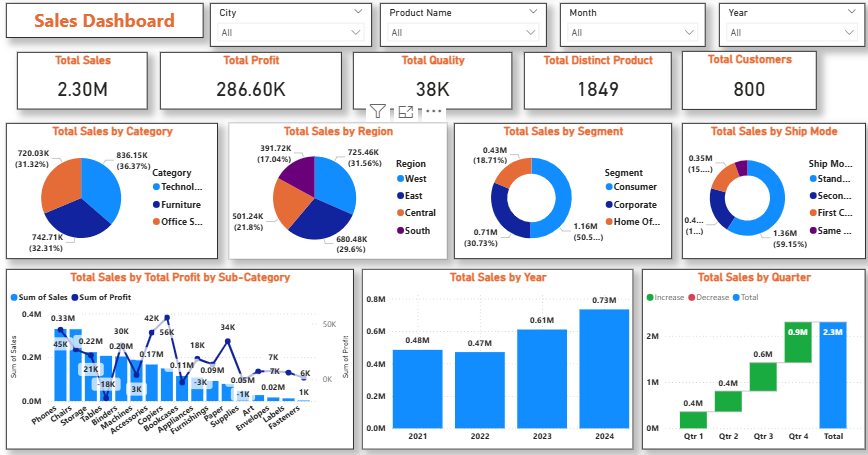

This screenshot's page, from the dashboard's own definition file:
{"tool":"powerbi","page":{"name":"Page 1","canvas":[1280,720],"ordinal":0},"visuals":[{"type":"textbox","box":[10,8.6,288.6,51.4],"z":0},{"type":"slicer","fields":{"Values":["Sales Data.City"]},"box":[308.6,8.6,237.1,64.3],"z":1000},{"type":"slicer","fields":{"Values":["Sales Data.Product Name"]},"box":[557.1,8.6,244.3,64.3],"z":2000},{"type":"slicer","fields":{"Values":["Sales Data.Order Date.Variation.Date Hierarchy.Month"]},"box":[821.4,8.6,212.9,64.3],"z":3000},{"type":"slicer","fields":{"Values":["Sales Data.Order Date.Variation.Date Hierarchy.Year"]},"box":[1054.3,8.6,214.3,64.3],"z":4000},{"type":"card","title":"Total Sales","fields":{"Values":["Sum(Sales Data.Sales)"]},"box":[25.7,80,191.4,84.3],"z":5000},{"type":"card","title":"Total Profit","fields":{"Values":["Sum(Sales Data.Profit)"]},"box":[235.7,80,265.7,84.3],"z":6000},{"type":"card","title":"Total Quality","fields":{"Values":["Sum(Sales Data.Quantity)"]},"box":[518.6,80,232.9,84.3],"z":7000},{"type":"card","title":"Total Distinct Product","fields":{"Values":["Count(Sales Data.Product Name)"]},"box":[768.6,80,215.7,84.3],"z":8000},{"type":"card","title":"Total Customers","fields":{"Values":["Count(Sales Data.Customer ID)"]},"box":[1000,78.6,197.1,85.7],"z":9000},{"type":"pieChart","title":"Total Sales by Category","fields":{"Y":["Sum(Sales Data.Sales)"],"Category":["Sales Data.Category"]},"box":[10,184.3,310,198.6],"z":10000},{"type":"pieChart","title":"Total Sales by Region","fields":{"Y":["Sum(Sales Data.Sales)"],"Category":["Sales Data.Region"]},"box":[337.1,184.3,318.6,198.6],"z":11000},{"type":"donutChart","title":"Total Sales by Segment","fields":{"Y":["Sum(Sales Data.Sales)"],"Category":["Sales Data.Segment"]},"box":[665.7,184.3,318.6,198.6],"z":12000},{"type":"donutChart","title":"Total Sales by Ship Mode","fields":{"Y":["Sum(Sales Data.Sales)"],"Category":["Sales Data.Ship Mode"]},"box":[1000,184.3,268.6,198.6],"z":13000},{"type":"lineClusteredColumnComboChart","title":"Total Sales by Total Profit by Sub-Category","fields":{"Category":["Sales Data.Sub-Category"],"Y":["Sum(Sales Data.Sales)"],"Y2":["Sum(Sales Data.Profit)"]},"box":[10,398.6,508.6,264.3],"z":14000},{"type":"columnChart","title":"Total Sales by Year","fields":{"Category":["Sales Data.Order Date.Variation.Date Hierarchy.Year"],"Y":["Sum(Sales Data.Sales)"]},"box":[531.4,398.6,397.1,264.3],"z":14001},{"type":"waterfallChart","title":"Total Sales by Quarter","fields":{"Y":["Sum(Sales Data.Sales)"],"Category":["Sales Data.Order Date.Variation.Date Hierarchy.Quarter"]},"box":[941.4,398.6,327.1,264.3],"z":14002}]}

Visuals, with their boxes in screenshot pixels (x1, y1, x2, y2):
textbox: <bbox>4, 3, 190, 36</bbox>
slicer - Sales Data.City: <bbox>197, 3, 350, 45</bbox>
slicer - Sales Data.Product Name: <bbox>357, 3, 515, 45</bbox>
slicer - Sales Data.Order Date.Variation.Date Hierarchy.Month: <bbox>528, 3, 665, 45</bbox>
slicer - Sales Data.Order Date.Variation.Date Hierarchy.Year: <bbox>678, 3, 816, 45</bbox>
"Total Sales" card: <bbox>14, 49, 138, 104</bbox>
"Total Profit" card: <bbox>150, 49, 321, 104</bbox>
"Total Quality" card: <bbox>332, 49, 483, 104</bbox>
"Total Distinct Product" card: <bbox>494, 49, 633, 104</bbox>
"Total Customers" card: <bbox>643, 48, 770, 104</bbox>
"Total Sales by Category" pieChart: <bbox>4, 117, 204, 245</bbox>
"Total Sales by Region" pieChart: <bbox>215, 117, 421, 245</bbox>
"Total Sales by Segment" donutChart: <bbox>427, 117, 633, 245</bbox>
"Total Sales by Ship Mode" donutChart: <bbox>643, 117, 816, 245</bbox>
"Total Sales by Total Profit by Sub-Category" lineClusteredColumnComboChart: <bbox>4, 255, 332, 425</bbox>
"Total Sales by Year" columnChart: <bbox>341, 255, 597, 425</bbox>
"Total Sales by Quarter" waterfallChart: <bbox>605, 255, 816, 425</bbox>
